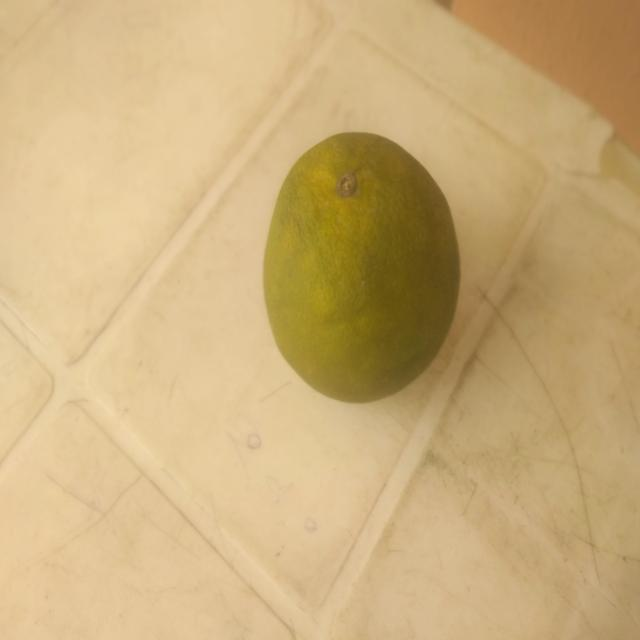Unripe: (241, 115, 488, 439)
